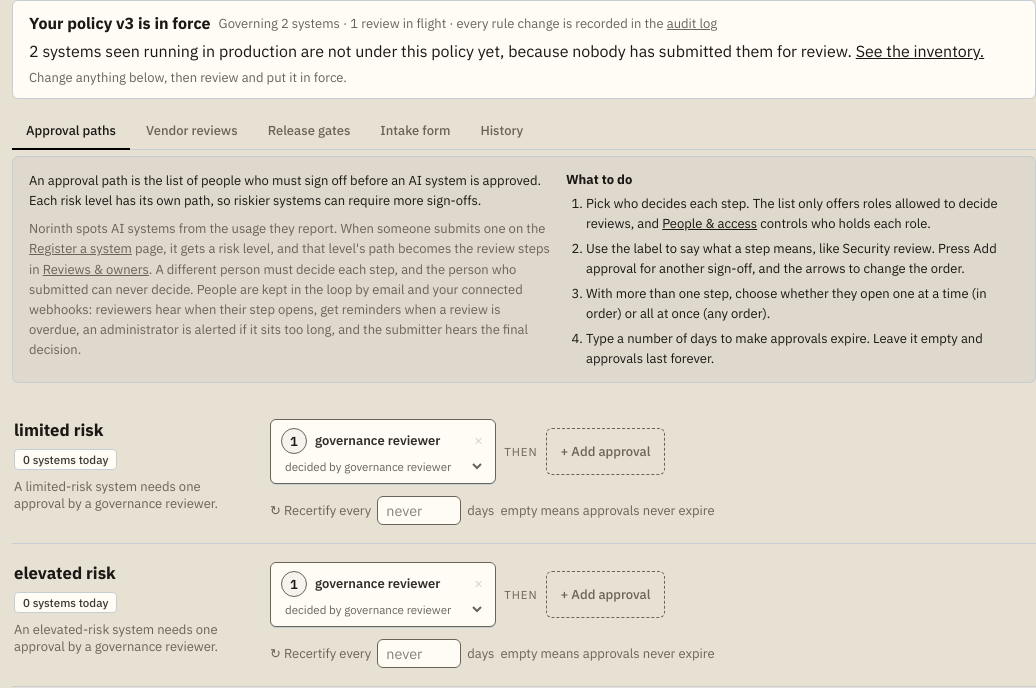
Test: PolicyView › editing the pipeline directly enables the one primary action
Expected: the element with test id "tier-card-limited" is shown, [12,401,1035,544]
Expected: the button "Review & put in force" is not shown
Click the 1st button "+ Add approval".
click(605, 452)  # box [546,428,665,475]
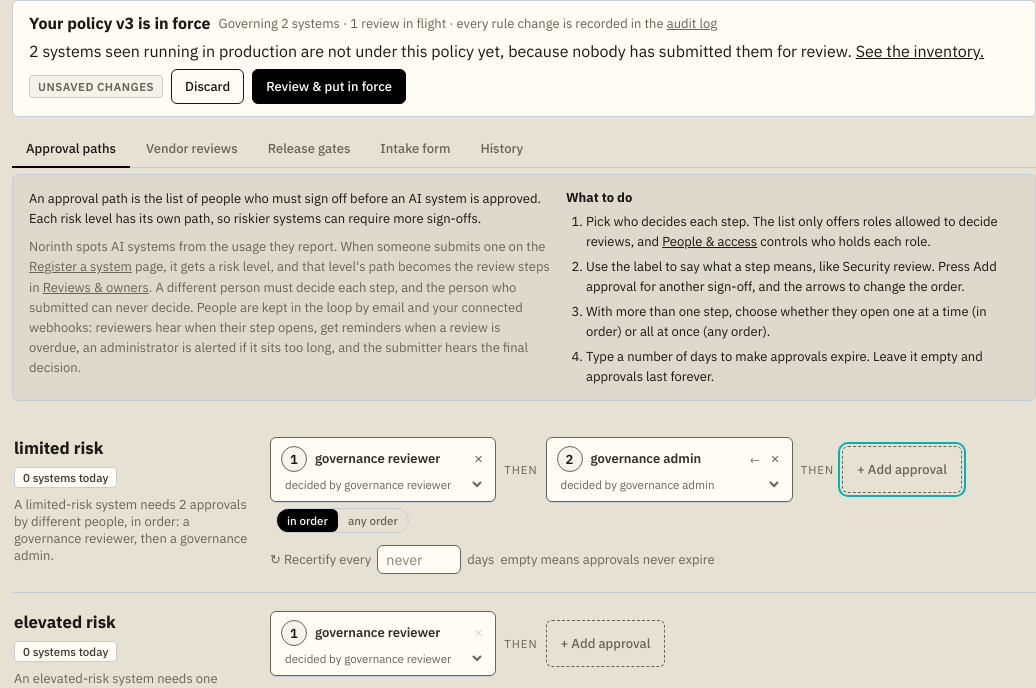
Expected: the text "unsaved changes" is shown, [29,75,163,98]
Expected: the button "Review & put in force" is enabled, [252,69,406,104]
